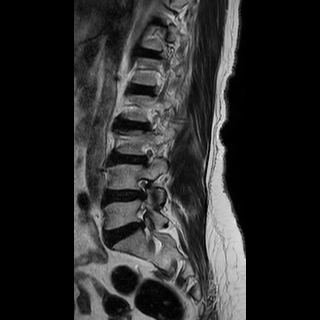RFS2: (129, 172, 155, 204)
